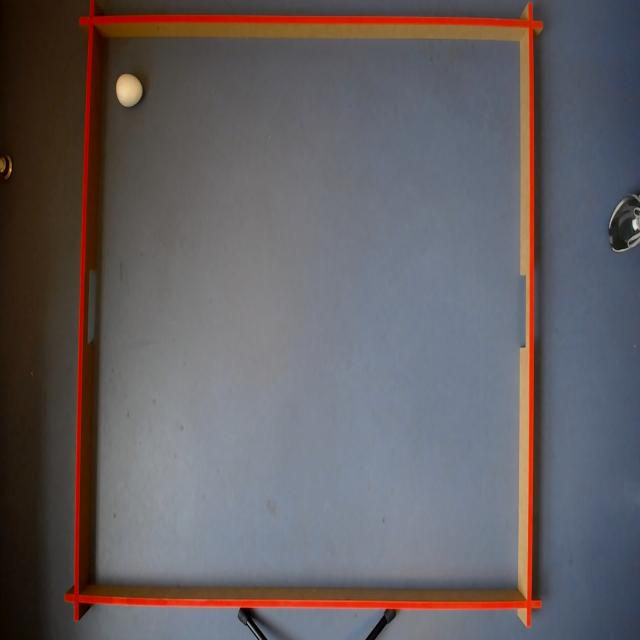egg: (116, 70, 144, 110)
